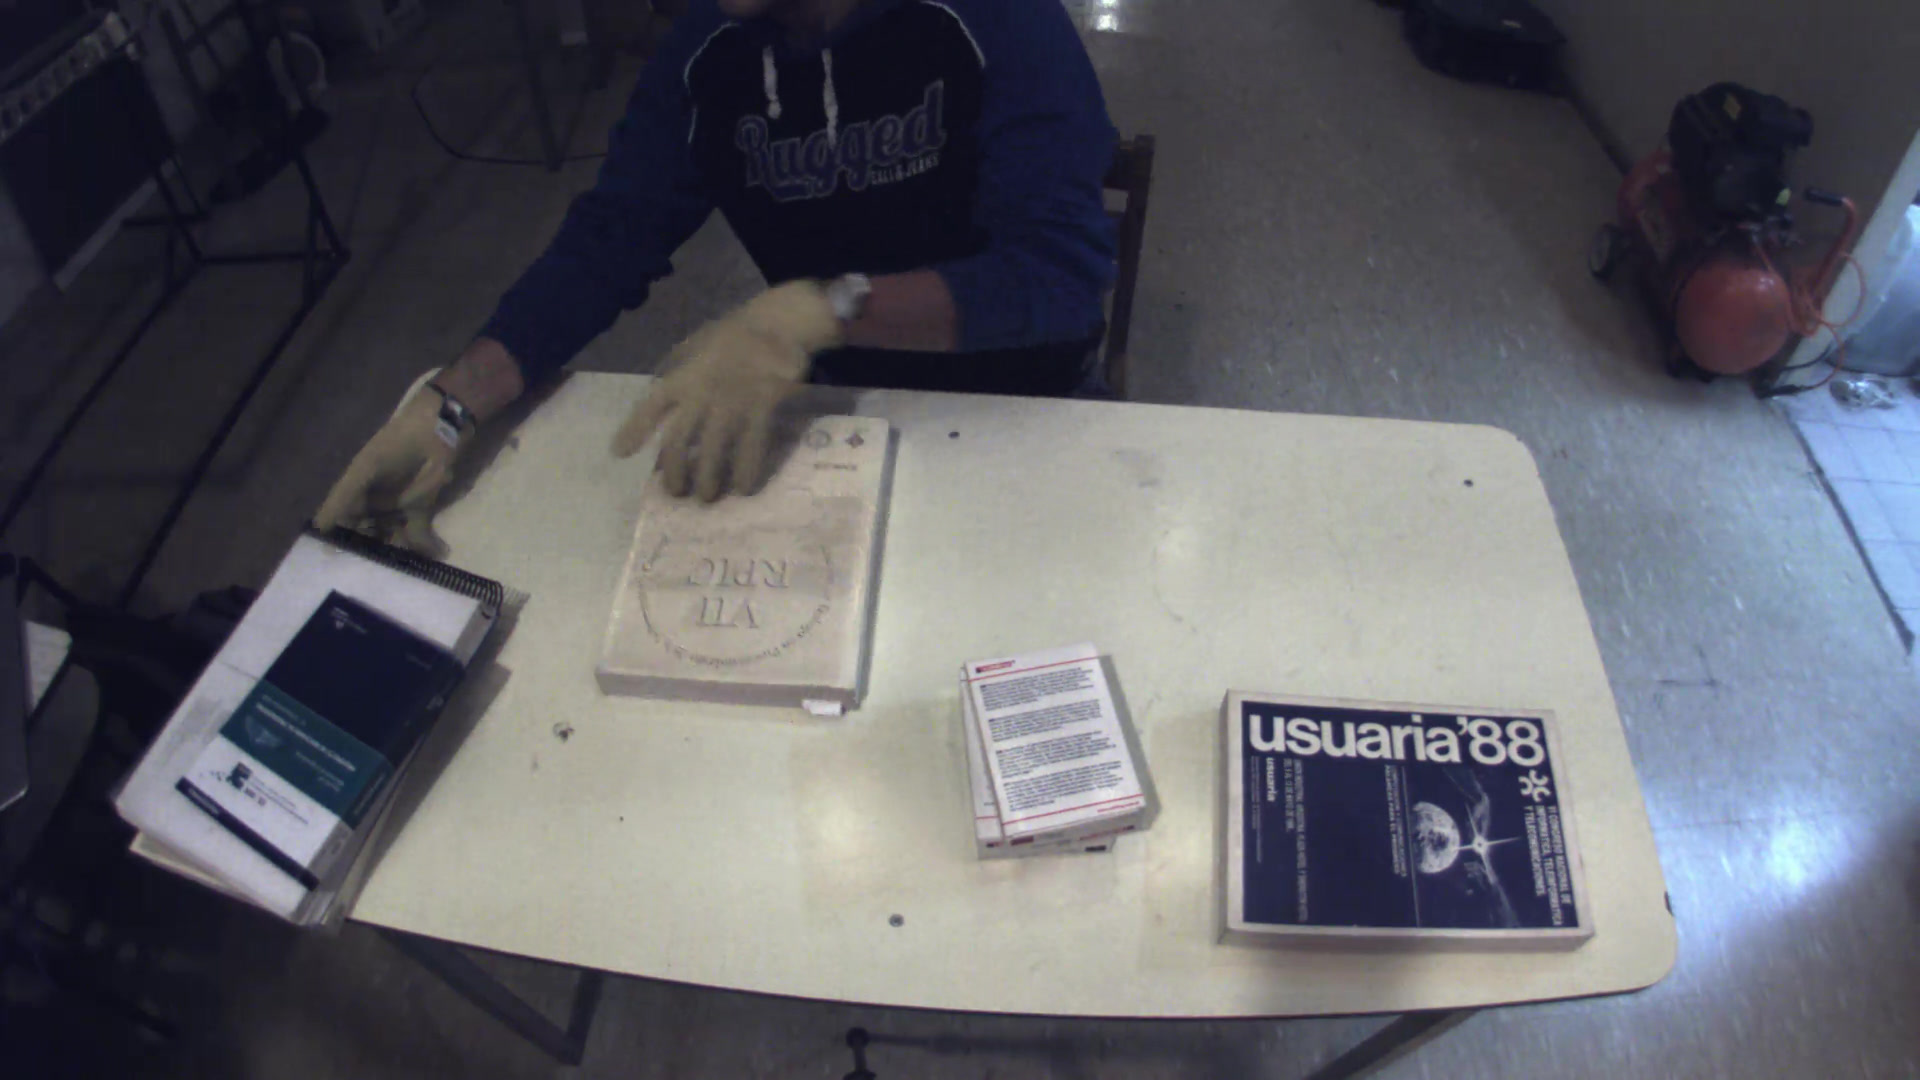hand: (603, 270, 849, 505), (295, 376, 468, 556)
